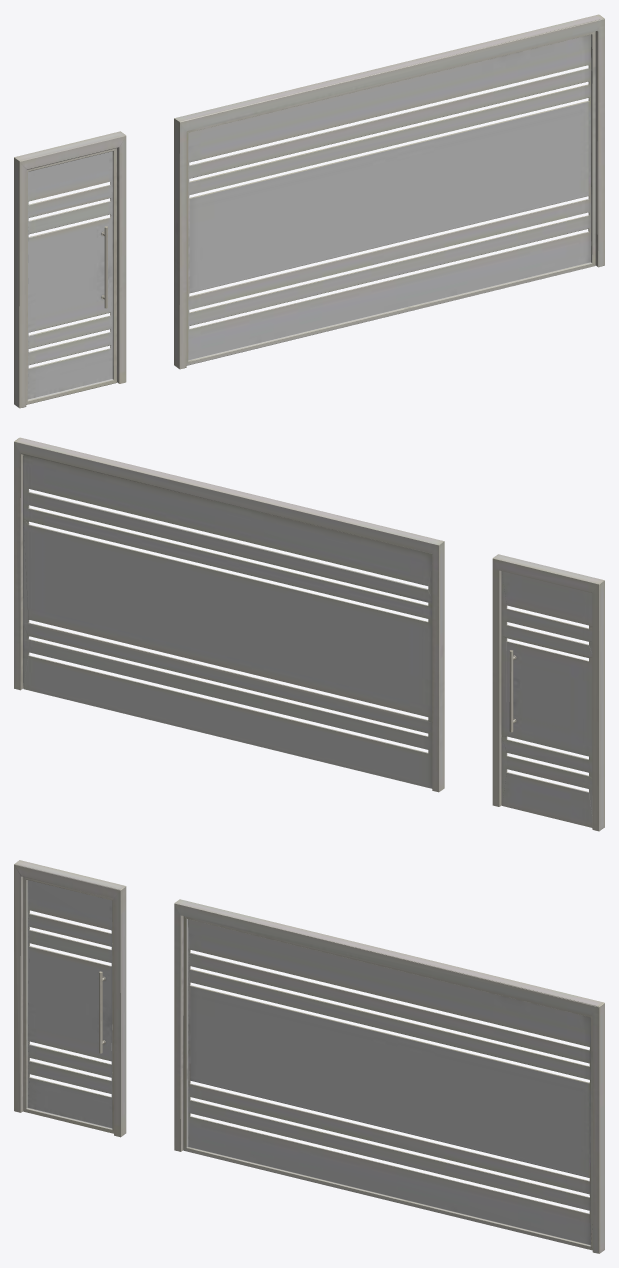
Rendered from z_garage.glb.
3 renders of one model, top to bottom at view 1: azimuth 30°, elevation 25°; view 2: azimuth 150°, elevation 25°; view 3: azimuth 330°, elevation 25°, orthographic.
Visible parts, largest first — view 1: folha, folha_pq; view 2: folha, folha_pq; view 3: folha, folha_pq.
Boxes of the visible parts, left/top/right/bottom form: folha: left=174, top=14, right=604, bottom=369; folha_pq: left=14, top=131, right=126, bottom=408; folha: left=14, top=437, right=444, bottom=792; folha_pq: left=492, top=554, right=604, bottom=831; folha: left=174, top=899, right=604, bottom=1253; folha_pq: left=14, top=860, right=126, bottom=1137.
Size of the model in its own units: 5.7 by 2.3 by 0.142.
5 materials, 5 textured.
